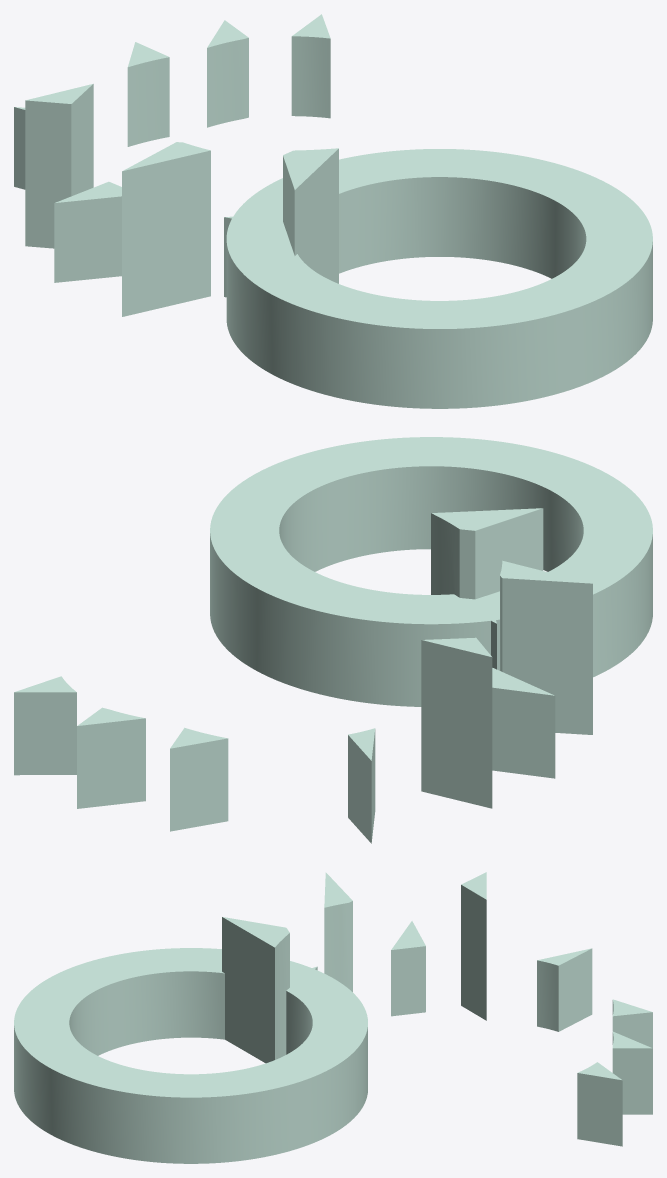
3 renders of one model, top to bottom at view 1: azimuth 30°, elevation 25°; view 2: azimuth 150°, elevation 25°; view 3: azimuth 270°, elevation 25°, orthographic. The views are drawn at different scales.
Parts seen in each view (by area): view 1: Renderer Node; view 2: Renderer Node; view 3: Renderer Node.
Boxes of the visible parts, box(x1,y1,x2,y2) form: Renderer Node: box(14, 14, 652, 408); Renderer Node: box(14, 437, 652, 843); Renderer Node: box(14, 872, 652, 1163).
Bounding box in the file's own units: 1.3 × 0.4141 × 1.98.
